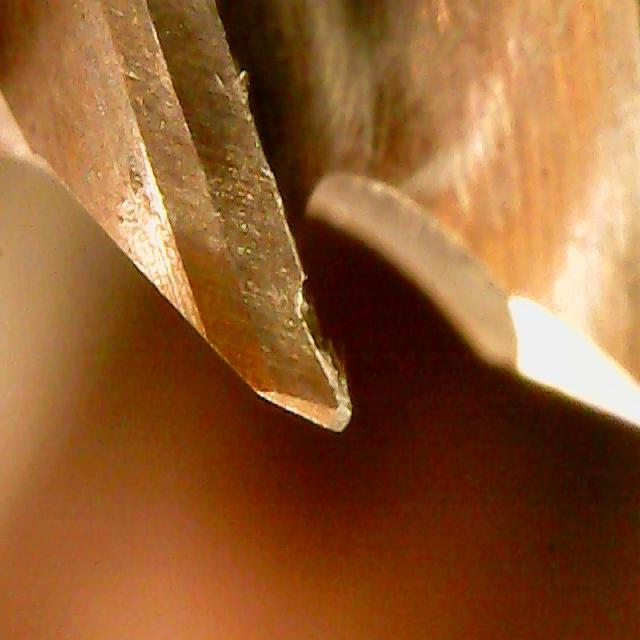Tool-wear-class-1: (221, 161, 355, 444)
